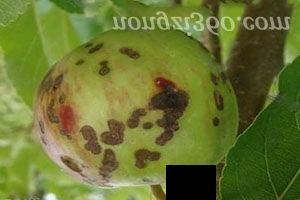rotten apple: (23, 29, 245, 195)
